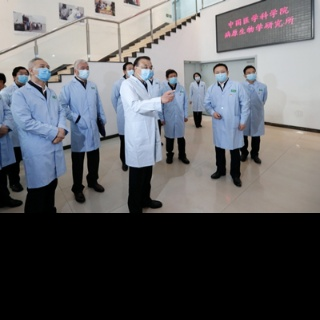with_mask: (36, 63, 51, 82), (140, 64, 154, 82), (77, 64, 90, 80), (15, 71, 29, 85), (215, 69, 228, 83), (168, 74, 179, 86), (246, 70, 257, 82), (126, 66, 136, 79), (195, 74, 201, 83)
